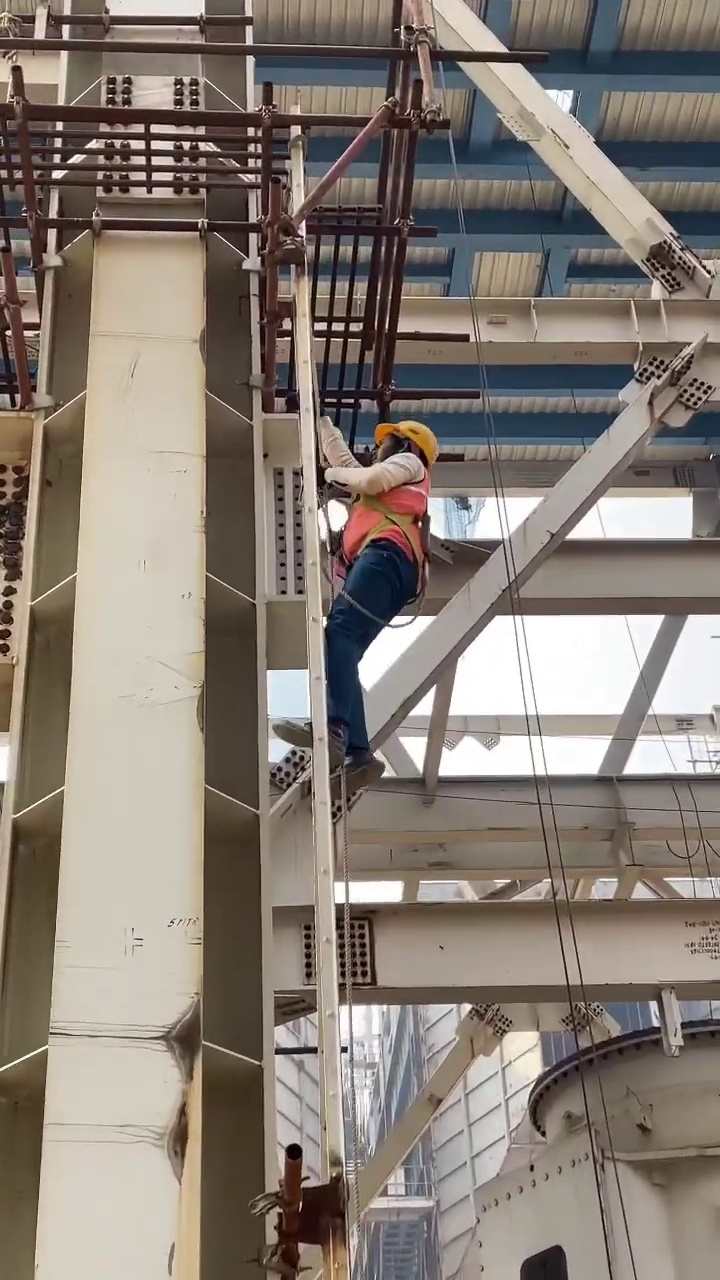Helmet: (373, 419, 438, 459)
Person: (276, 418, 439, 797)
Safety_Harness: (332, 475, 432, 626)
Safety_shoes: (272, 717, 350, 768), (305, 755, 385, 796)
